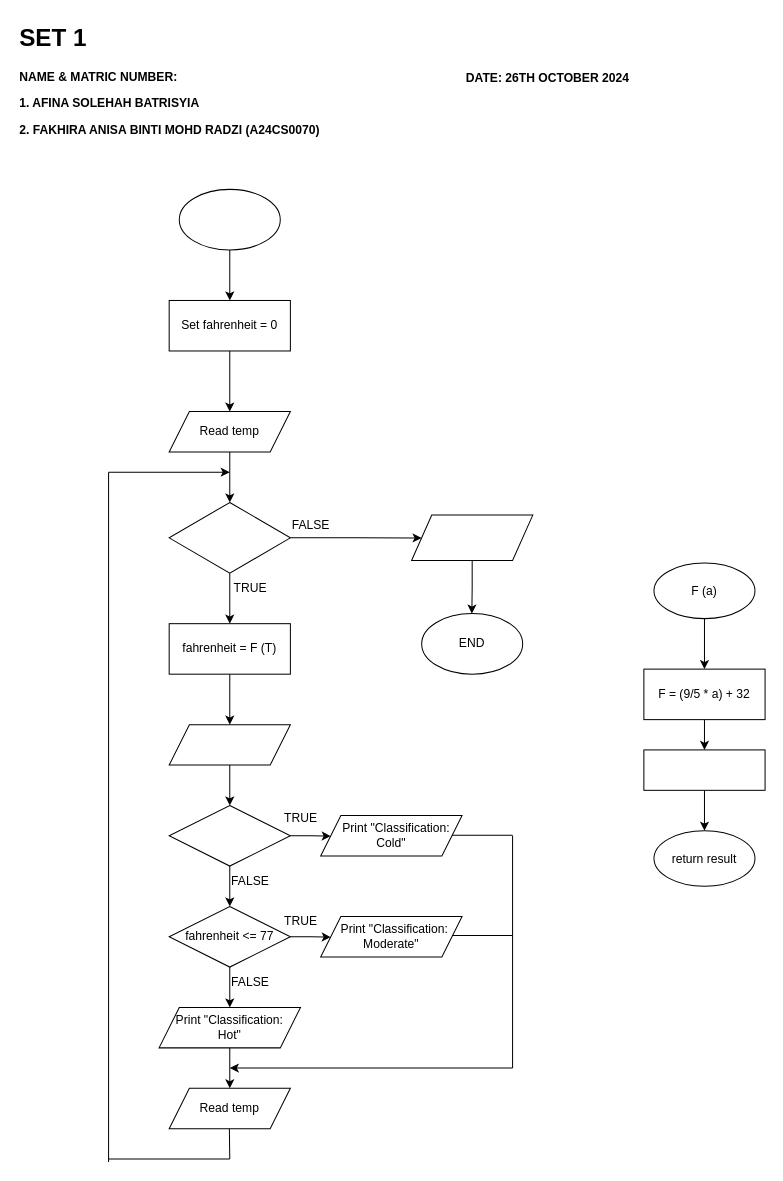
The diagram is 783 pixels wide and 1181 high, and some of its shapes have lost their labels. Here are the shapes that lost their labels. From the top down, the box of each, then its label:
(178, 188, 280, 250): START
(168, 501, 290, 573): temp != -999
(411, 514, 533, 561): Print "Program terminated."
(168, 724, 290, 765): Print fahrenheit
(643, 749, 765, 790): result = F
(168, 804, 290, 866): fahrenheit < 50
